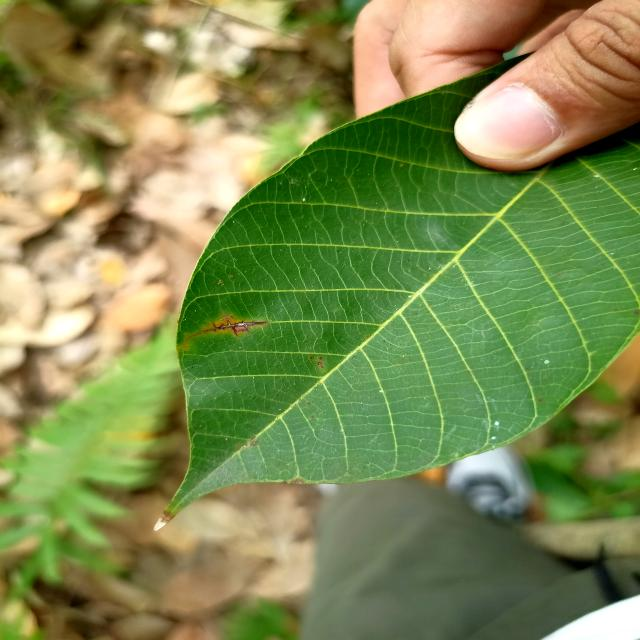Corynespora: (200, 319, 268, 338)
